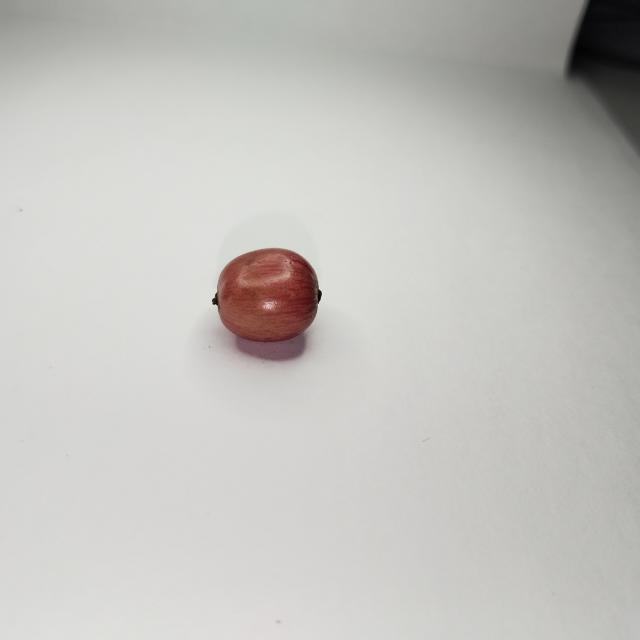Sano: (212, 248, 321, 341)
